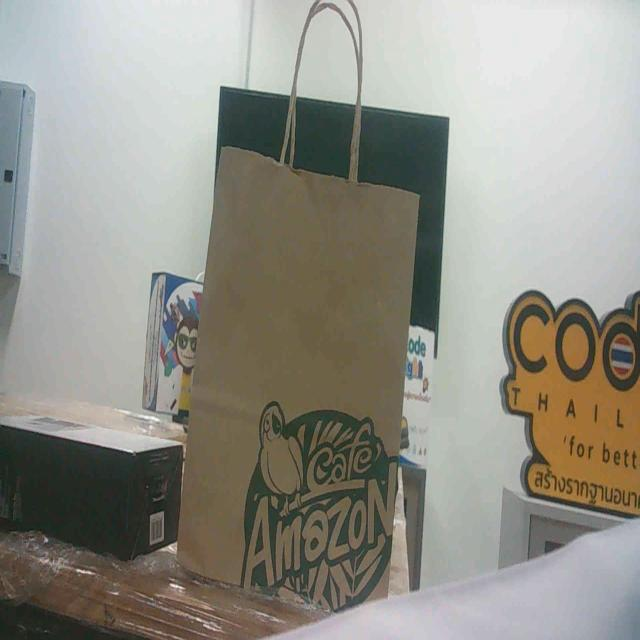bag: (202, 127, 472, 640)
